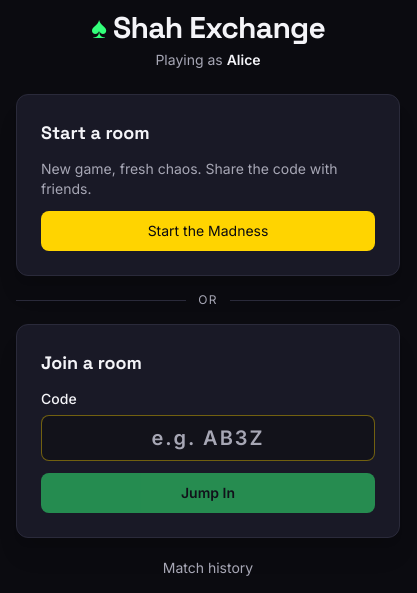
Test: LobbyPage › enables join button once 4 chars are entered
The width and height of the screenshot is (417, 593).
Type "ABCD" into the field labelled "Code" at coordinates (208, 438), box [41, 415, 375, 461]
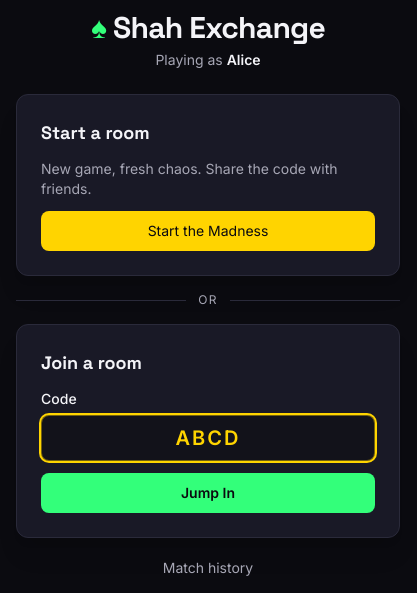
Expected: the button with aria-label "join room" is enabled, [41, 473, 375, 513]
